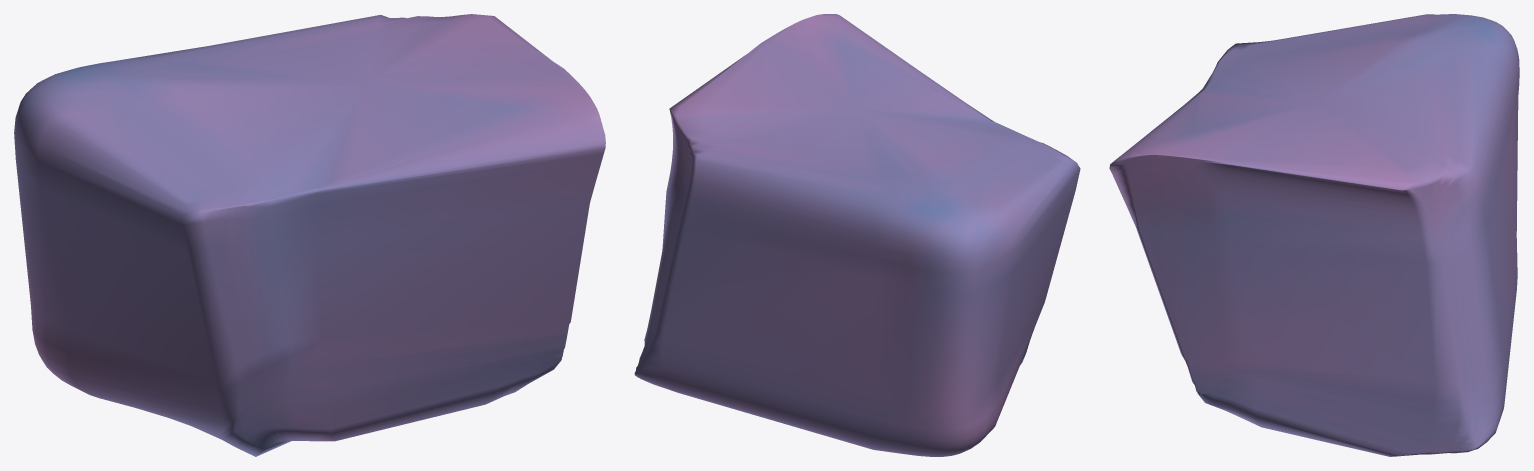
Rendered from SM_Rock_00.glb.
3 views of the same model, side by side, from view 1: azimuth 30°, elevation 25°; view 2: azimuth 150°, elevation 25°; view 3: azimuth 270°, elevation 25° (orthographic). The views are drawn at different scales.
Parts seen in each view (by area): view 1: SM_Rock_00; view 2: SM_Rock_00; view 3: SM_Rock_00.
Part boxes in pixels (box(x1,y1,x2,y2)): SM_Rock_00: box(14, 14, 605, 456); SM_Rock_00: box(634, 14, 1080, 456); SM_Rock_00: box(1109, 14, 1519, 456).
Size of the model in its own units: 0.9251 by 0.6806 by 0.8375.
